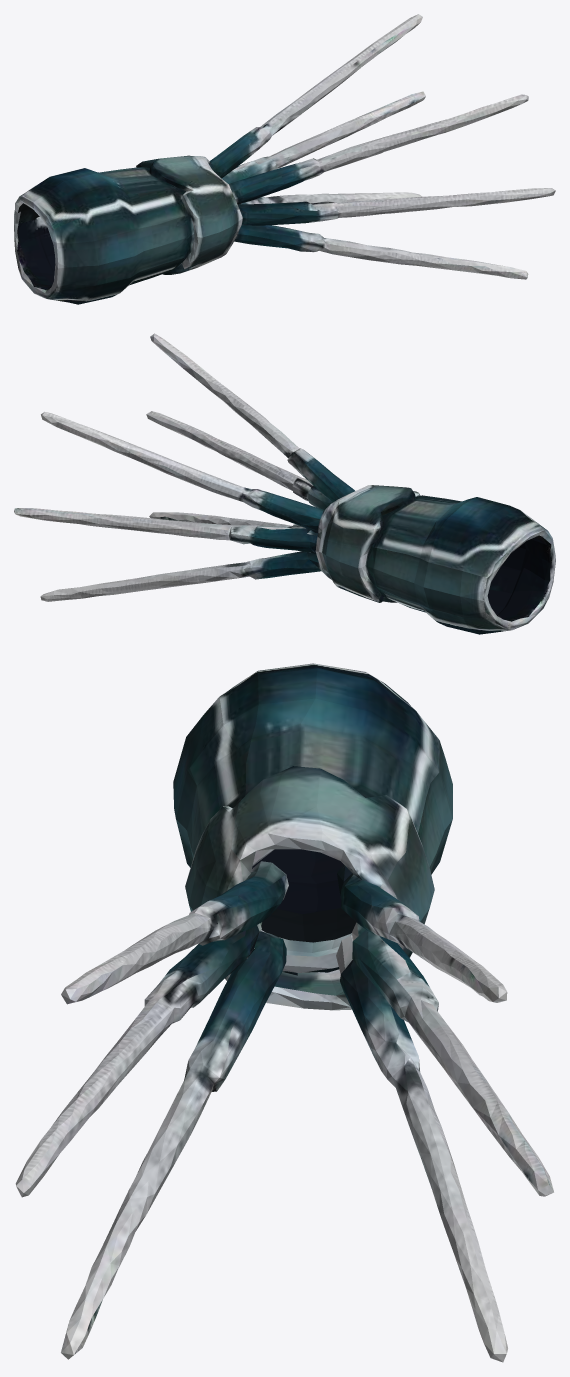
File: ha-w-array-of-blades.glb
3 views of the same model, one above another, from view 1: azimuth 30°, elevation 25°; view 2: azimuth 150°, elevation 25°; view 3: azimuth 270°, elevation 25° (orthographic). The views are drawn at different scales.
Parts seen in each view (by area): view 1: tmp1y3dzn78.ply; view 2: tmp1y3dzn78.ply; view 3: tmp1y3dzn78.ply.
Part boxes in pixels (x1=…): tmp1y3dzn78.ply: x1=14, y1=14, x2=555, y2=304; tmp1y3dzn78.ply: x1=14, y1=333, x2=555, y2=634; tmp1y3dzn78.ply: x1=15, y1=663, x2=553, y2=1362.
Size of the model in its own units: 0.55 by 0.2166 by 0.2828.
Materials: 1 (1 with a texture image).
